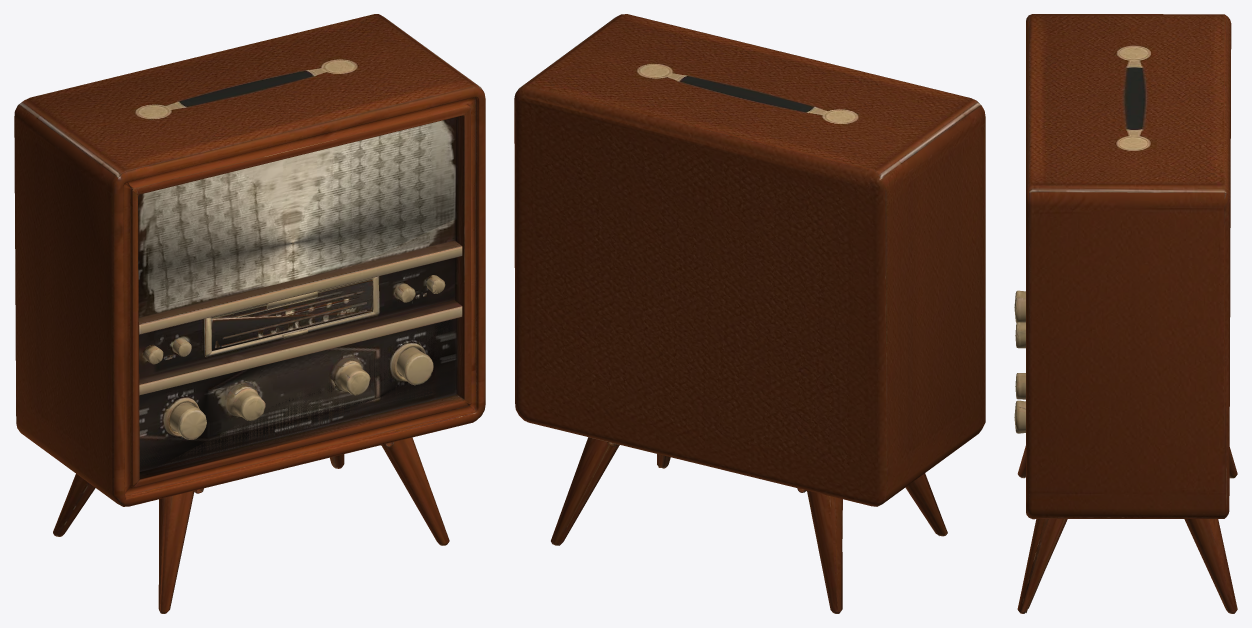
File: tube_radio.glb
3 renders of one model, left to right at view 1: azimuth 30°, elevation 25°; view 2: azimuth 150°, elevation 25°; view 3: azimuth 270°, elevation 25°, orthographic.
Bounding box in the file's own units: 0.8301 × 0.9517 × 0.4316.
Materials: 1 (1 with a texture image).
